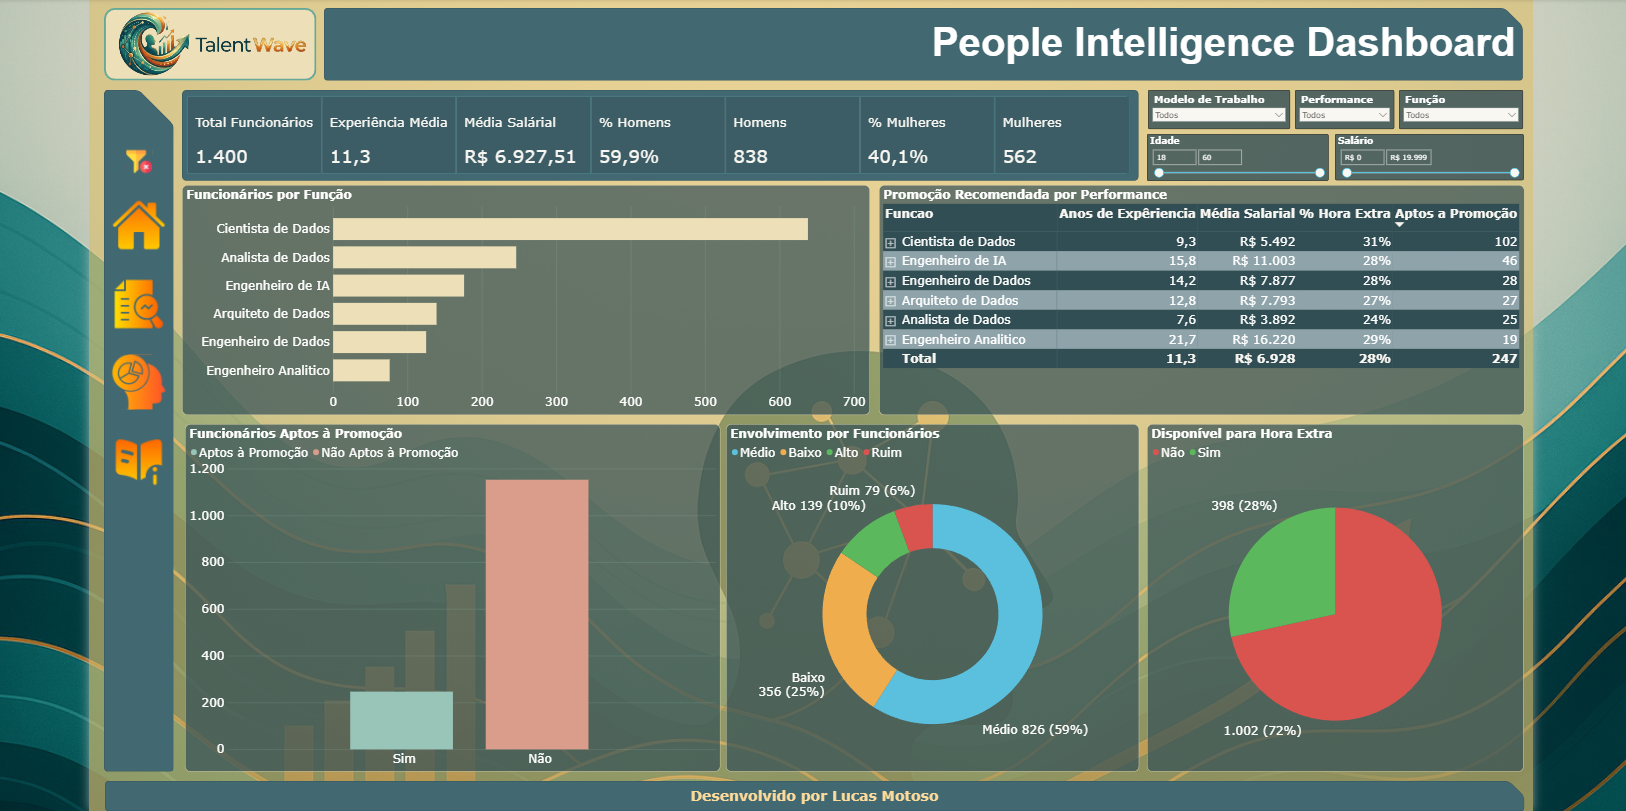

The page's visual inventory and layout, read from the dashboard file:
{"tool":"powerbi","page":{"name":"People Overview","canvas":[3840,2160],"ordinal":0},"visuals":[{"type":"group","id":"g1","title":"Logo Talent Wave","box":[0,24.2,658.2,193.4],"z":0},{"type":"shape","title":"Shape do Logo","box":[40.1,24.2,564.9,193.2],"z":0,"group":"g1"},{"type":"shape","box":[248.1,241.6,2545,241.6],"z":0,"group":"g2"},{"type":"image","title":"Logo","box":[0,24.2,658.2,190.7],"z":1000,"group":"g1"},{"type":"cardVisual","title":"Total de Funcionários","fields":{"Data":["Medidas.Total Funcionários","Medidas.Experiência Média (Anos)","Medidas.Salário Médio Mensal","Medidas.% Masculino","Medidas.Total Masculino","Medidas.% Feminino","Medidas.Total Feminino"]},"box":[254.9,252,2522.2,218.9],"z":1000,"group":"g2"},{"type":"shape","title":"Footer","box":[41.9,2081.1,3775.6,80.5],"z":1000},{"type":"textbox","title":"Texto do Footer","box":[1534.7,2090.1,789.9,64.5],"z":2000},{"type":"shape","title":"Forma Superior","box":[625.5,23,3189.3,193.3],"z":3000},{"type":"shape","title":"Forma lateral esquerda","box":[40.3,241.8,185.4,1813.4],"z":4000},{"type":"barChart","title":"Funcionários por Função","fields":{"Category":["DimFuncao.Funcao"],"Y":["Medidas.Total Funcionários por Função"]},"box":[248.1,496.1,1829.8,612.1],"z":5000},{"type":"donutChart","title":"Envolvimento por Funcionários","fields":{"Category":["FactFuncionarios.Indice_Envolvimento_Trabalho"],"Y":["Medidas.Total Funcionários"]},"box":[1694.5,1130.7,1098.5,924.6],"z":6000},{"type":"pieChart","title":"Disponível para Hora Extra","fields":{"Category":["FactFuncionarios.Disponivel_Hora_Extra"],"Y":["Medidas.Total Funcionários"]},"box":[2815.6,1130.7,1001.9,924.6],"z":7000},{"type":"group","id":"g2","title":"Grupo 1","box":[248.1,241.6,2545,241.6],"z":8000},{"type":"slicer","fields":{"Values":["DimViagem.Viagem"]},"box":[2816,242,378,104],"z":9000},{"type":"slicer","fields":{"Values":["DimFuncao.Funcao"]},"box":[3486,242,330,104],"z":10000},{"type":"slicer","title":"Idade","fields":{"Values":["FactFuncionarios.Idade"]},"box":[2815,358.3,483.3,125],"z":11000},{"type":"slicer","title":"Salário","fields":{"Values":["FactFuncionarios.Salario_Mensal"]},"box":[3315,360,501.7,123.3],"z":12000},{"type":"textbox","box":[2220.2,48.8,1594.6,141.7],"z":13000},{"type":"columnChart","title":"Funcionários Aptos à Promoção ","fields":{"Y":["Medidas.Funcionários Aptos à Promoção","Medidas.Funcionários Não Aptos à Promoção"],"Category":["FactFuncionarios.Promocao_Recomendada"]},"box":[254.5,1130.7,1423.9,924.6],"z":14000},{"type":"pivotTable","title":"Promoção Recomendada  por Performance","fields":{"Rows":["DimFuncao.Funcao","FactFuncionarios.Promocao_Recomendada","FactFuncionarios.Indice_Envolvimento_Trabalho","DimViagem.Viagem"],"Values":["Medidas.Experiência Média (Anos)","Medidas.Salário Médio Mensal","Medidas.% Disponíveis Hora Extra","Medidas.Total Funcionários a Promover"]},"box":[2100.4,496.1,1717,612.1],"z":15000},{"type":"slicer","fields":{"Values":["FactFuncionarios.Indice_Envolvimento_Trabalho"]},"box":[3208,242,264,104],"z":16000},{"type":"actionButton","box":[39.9,393,186.8,77.3],"z":17000},{"type":"actionButton","box":[38.3,524.3,190.1,154.6],"z":18000},{"type":"actionButton","box":[38.3,732.9,190.1,154.6],"z":19000},{"type":"actionButton","box":[38.3,941.5,190.1,154.6],"z":20000},{"type":"actionButton","box":[38.3,1150.1,190.1,154.6],"z":21000}]}

Visuals, with their boxes on the page's 3840x2160 design canvas (x1, y1, x2, y2). These are canvas units, not pixel positions in the 1626x811 screenshot, which may show the page scaled, cropped or inside an application window:
"Logo Talent Wave" group: 0, 24, 658, 218
"Shape do Logo" shape: 40, 24, 605, 217
shape: 248, 242, 2793, 483
"Logo" image: 0, 24, 658, 215
"Total de Funcionários" cardVisual: 255, 252, 2777, 471
"Footer" shape: 42, 2081, 3818, 2162
"Texto do Footer" textbox: 1535, 2090, 2325, 2155
"Forma Superior" shape: 626, 23, 3815, 216
"Forma lateral esquerda" shape: 40, 242, 226, 2055
"Funcionários por Função" barChart: 248, 496, 2078, 1108
"Envolvimento por Funcionários" donutChart: 1694, 1131, 2793, 2055
"Disponível para Hora Extra" pieChart: 2816, 1131, 3818, 2055
"Grupo 1" group: 248, 242, 2793, 483
slicer - DimViagem.Viagem: 2816, 242, 3194, 346
slicer - DimFuncao.Funcao: 3486, 242, 3816, 346
"Idade" slicer: 2815, 358, 3298, 483
"Salário" slicer: 3315, 360, 3817, 483
textbox: 2220, 49, 3815, 190
"Funcionários Aptos à Promoção " columnChart: 254, 1131, 1678, 2055
"Promoção Recomendada  por Performance" pivotTable: 2100, 496, 3817, 1108
slicer - FactFuncionarios.Indice_Envolvimento_Trabalho: 3208, 242, 3472, 346
actionButton: 40, 393, 227, 470
actionButton: 38, 524, 228, 679
actionButton: 38, 733, 228, 888
actionButton: 38, 942, 228, 1096
actionButton: 38, 1150, 228, 1305
